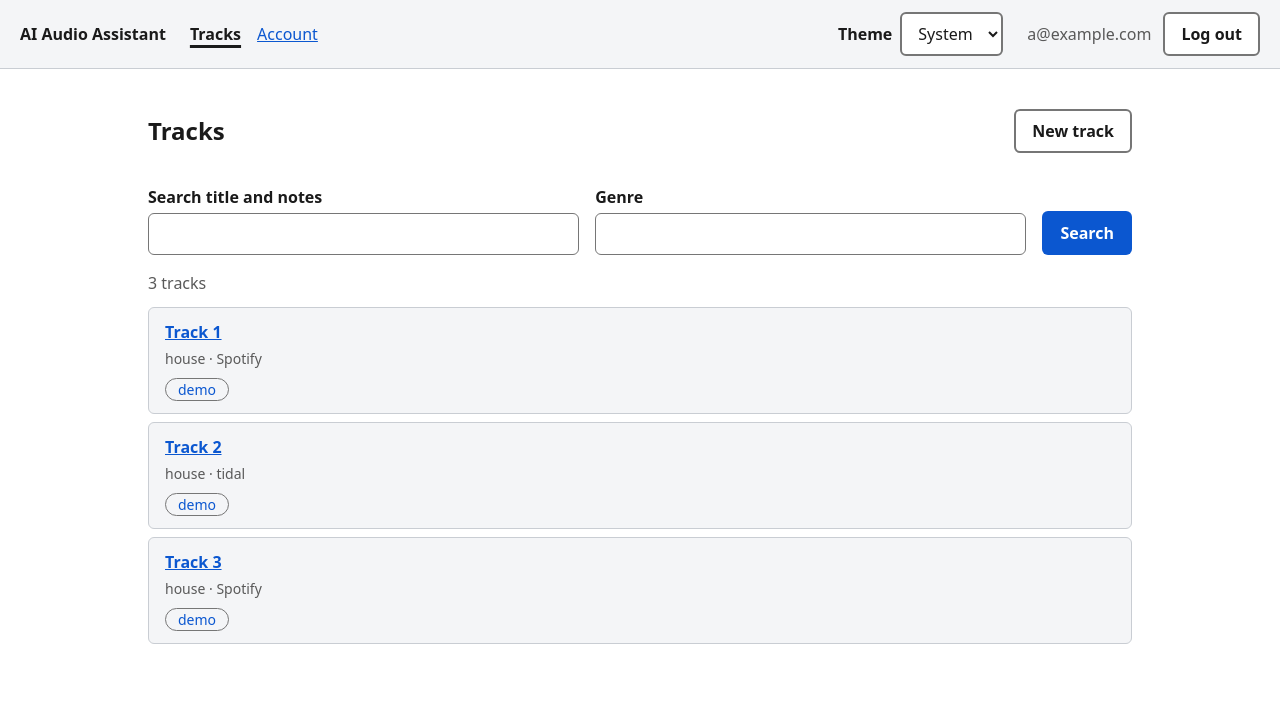
tag chips › applies the tag filter when a chip is clicked
Expected: the link "Track 1" is shown, [165,321,222,343]
Click the link with aria-label "Filter by tag demo": click(197, 389) [165,378,229,401]
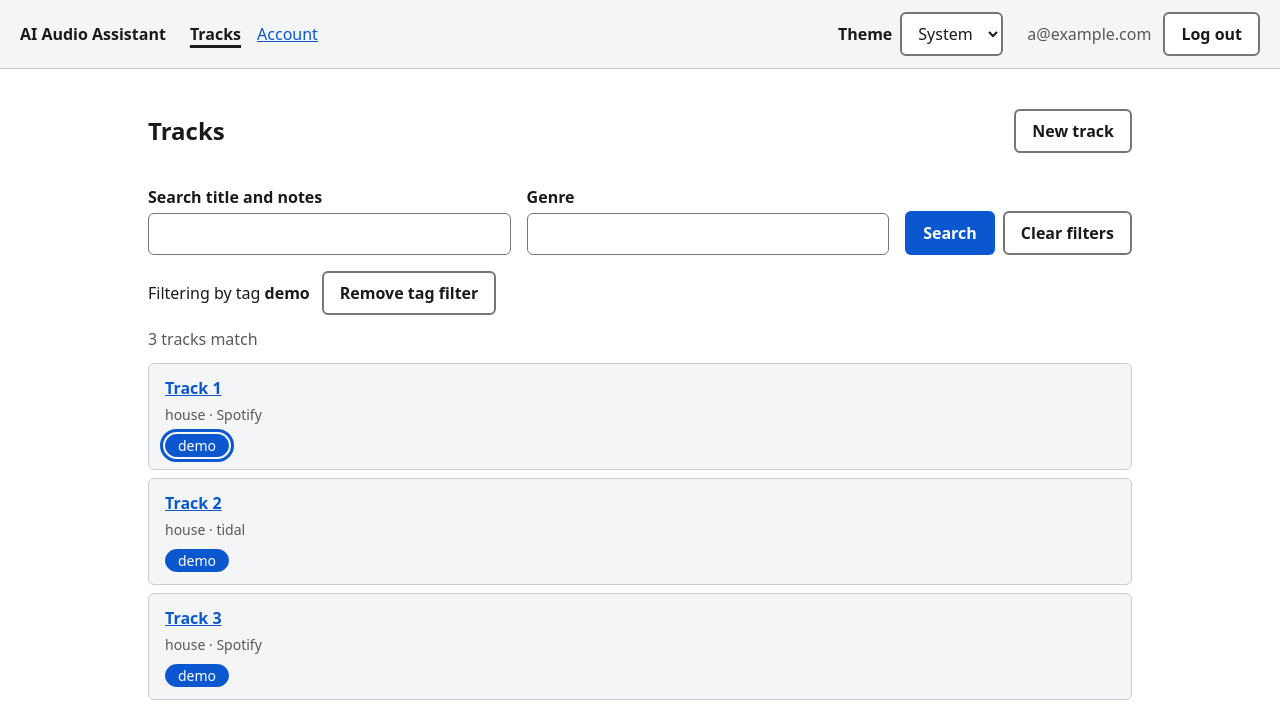
Expected: the text "Filtering by tag demo" is shown, [148,281,310,305]
Expected: the text "demo" is shown, [265,282,310,304]
